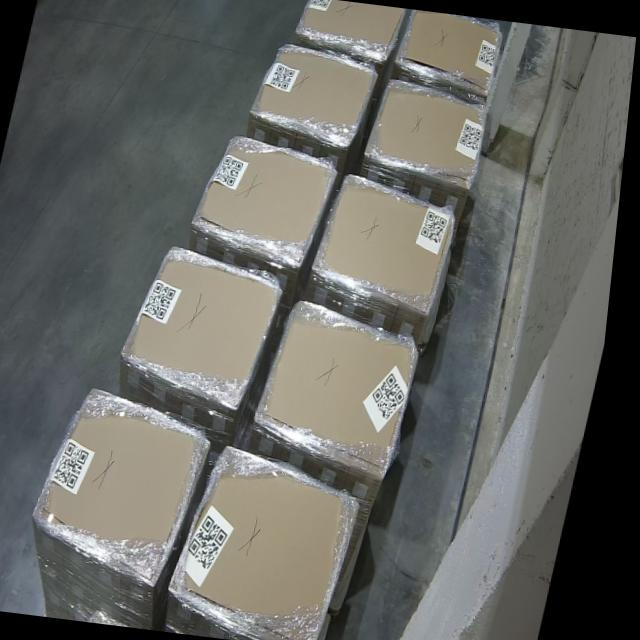pallet: (180, 445, 373, 640), (43, 383, 219, 585), (265, 303, 429, 477), (125, 245, 286, 413), (321, 173, 462, 321), (198, 133, 343, 272), (252, 42, 379, 148), (370, 82, 493, 183), (400, 9, 505, 93), (294, 0, 408, 54)
